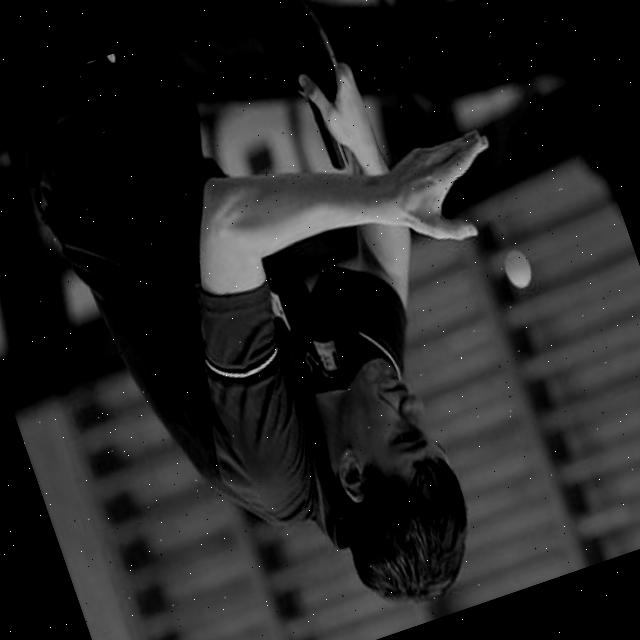ping-pong-ball: (498, 246, 538, 294)
